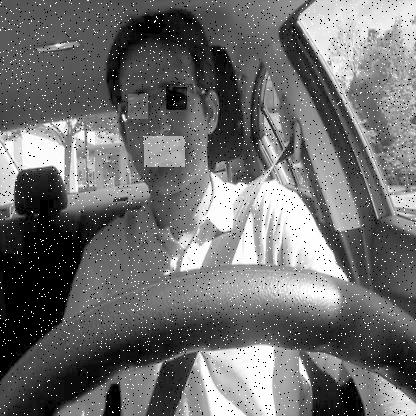seatbelt: (99, 8, 302, 416)
